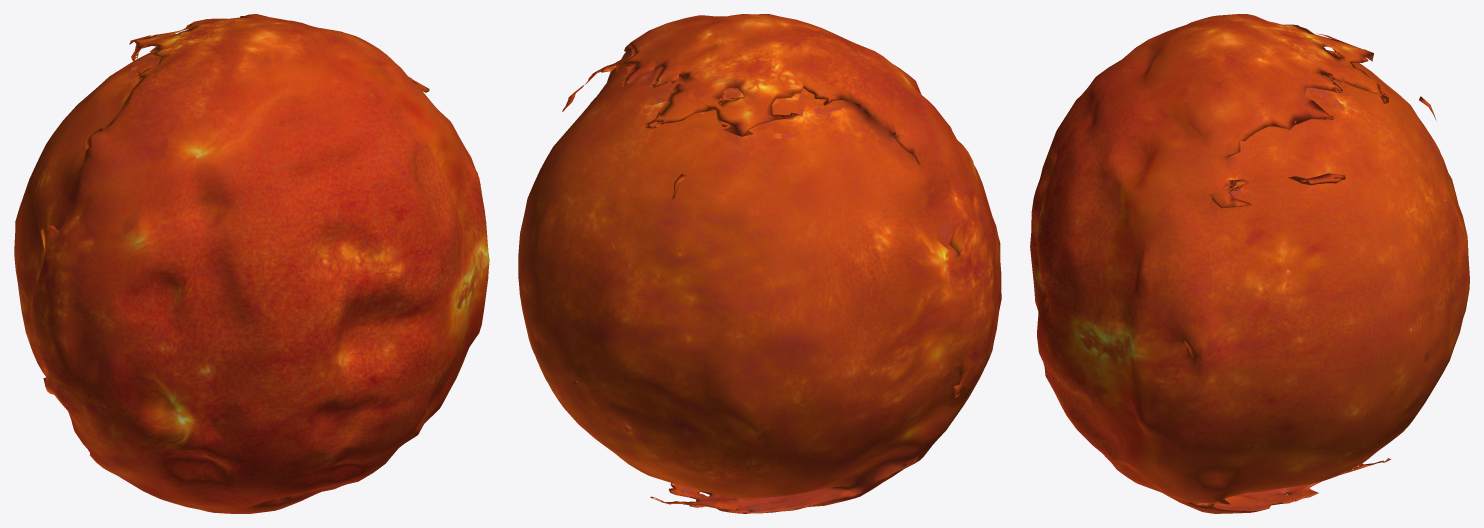
File: Create_a_highly_detai_0701053753_texture.glb
3 renders of one model, left to right at view 1: azimuth 30°, elevation 25°; view 2: azimuth 150°, elevation 25°; view 3: azimuth 270°, elevation 25°, orthographic. The views are drawn at different scales.
Size of the model in its own units: 1.67 by 1.73 by 1.5.
1 material, 1 textured.
